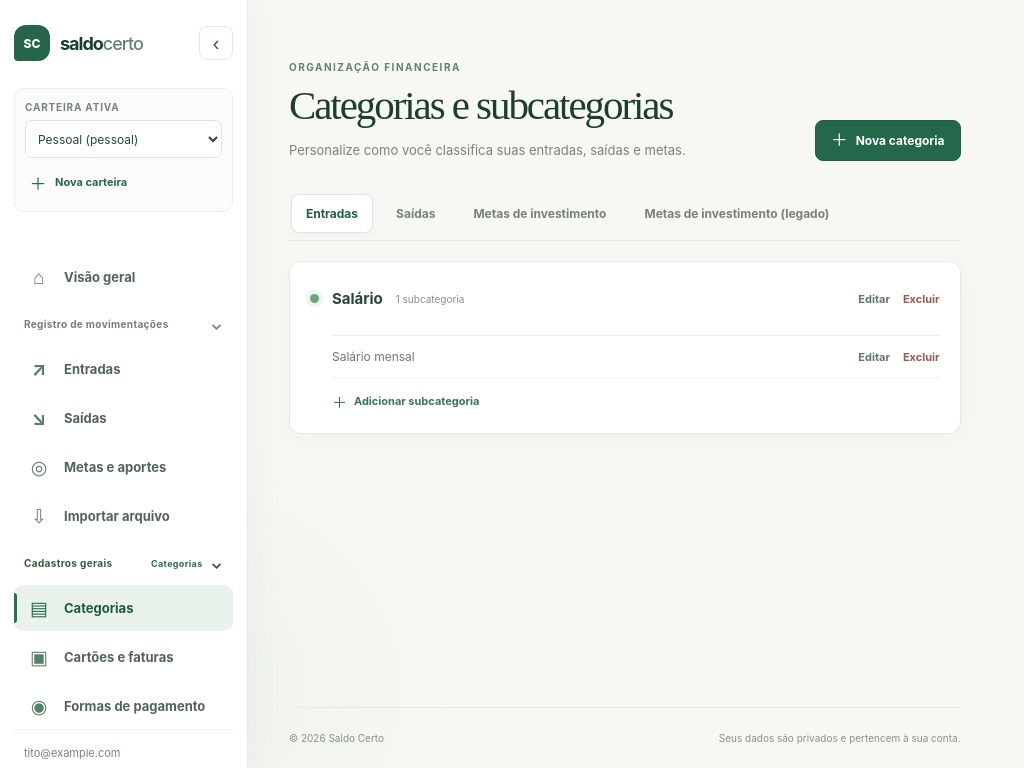
CategoriesPage duplicate names › rejects a category duplicate when the only difference is diacritics
Check: the dropdown labelled "Carteira ativa" is shown, box [25,120,222,158]
Check: the heading "Salário" is shown, box [332,289,383,308]
Click the button "＋ Nova categoria" at (888,141), box [815,120,961,161]
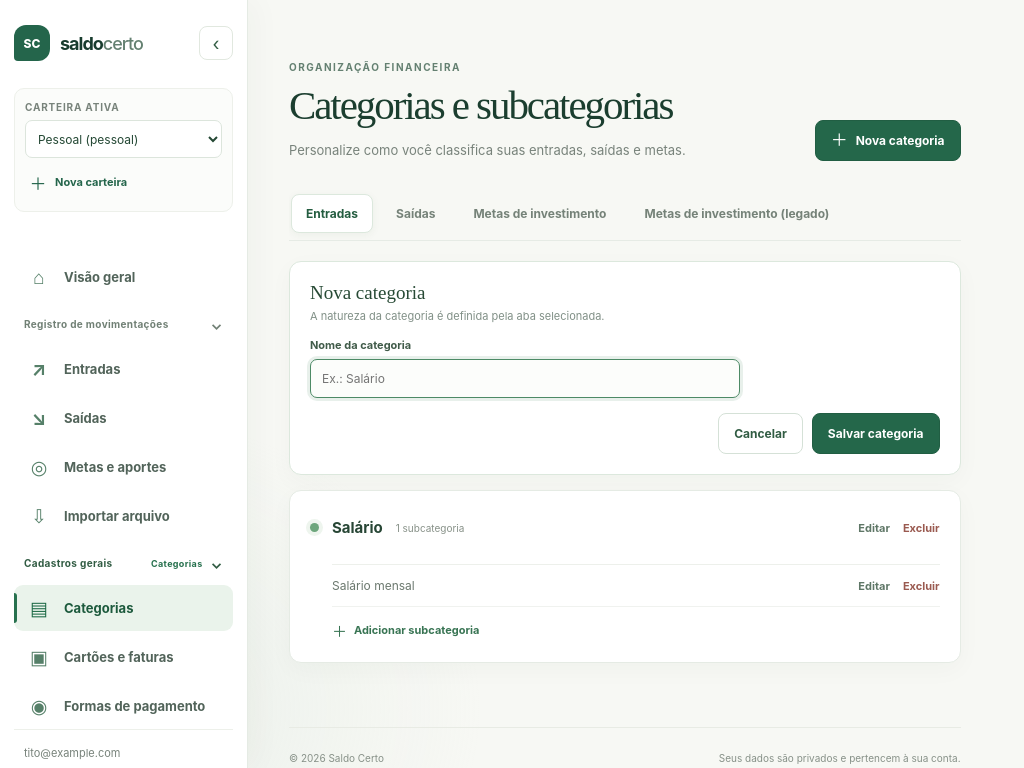
Type "salario" into the field labelled "Nome da categoria" at (525,379), box [310,359,740,398]
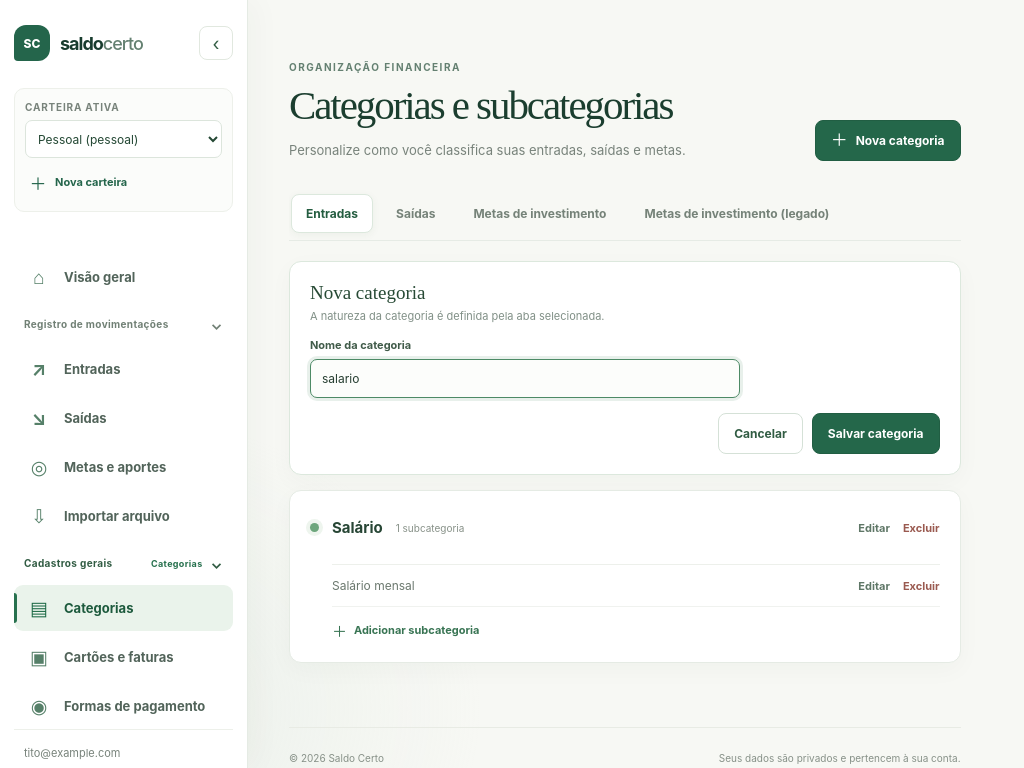
Click the button "Salvar categoria" at (876,434), box [812,413,940,454]
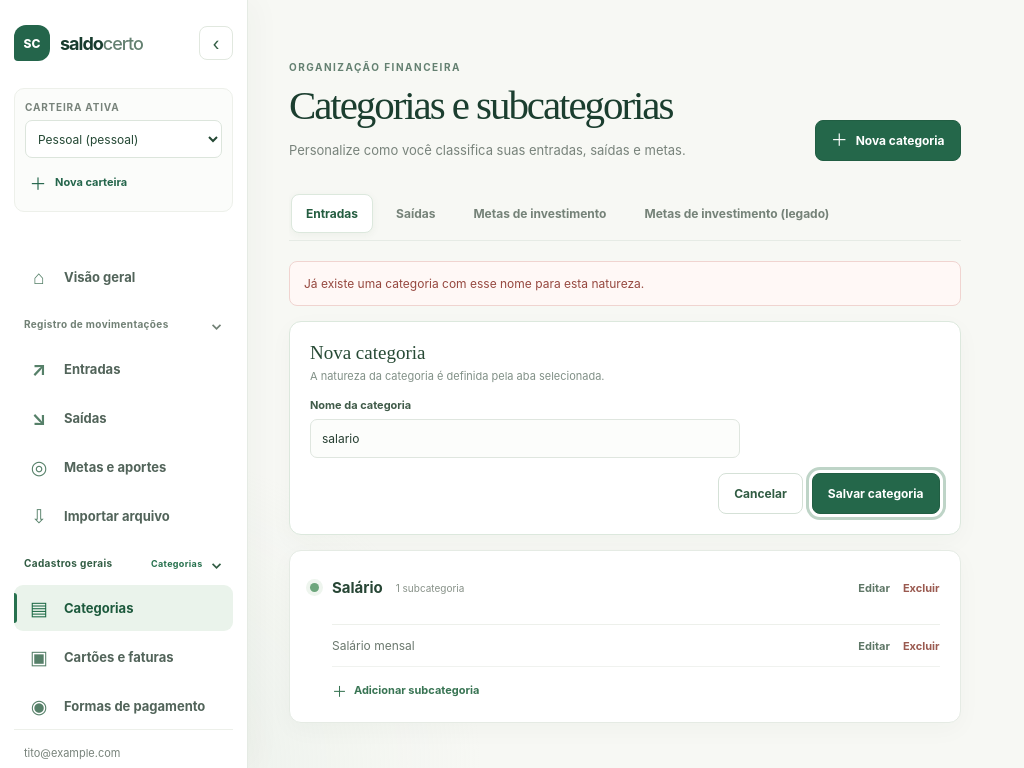
Check: the message shows "Já existe uma categoria com esse nome", box [304,276,644,291]
